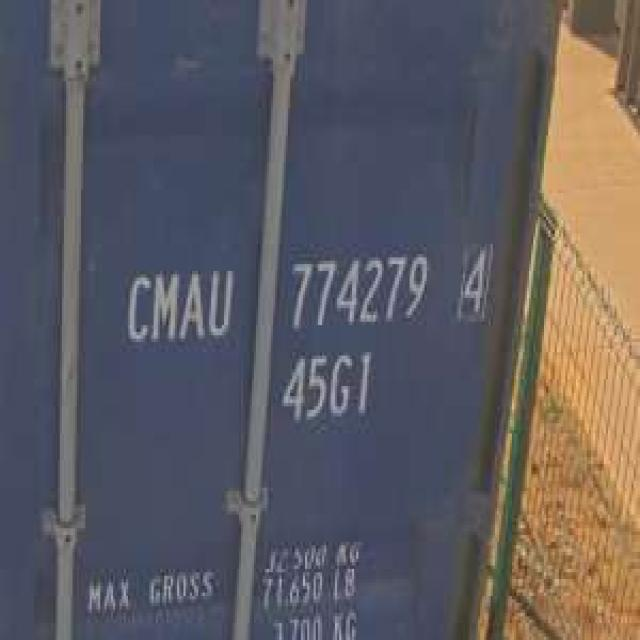dv: (457, 240, 494, 328)
owner: (122, 261, 238, 356)
serial: (286, 252, 431, 333)
size: (277, 349, 378, 432)
